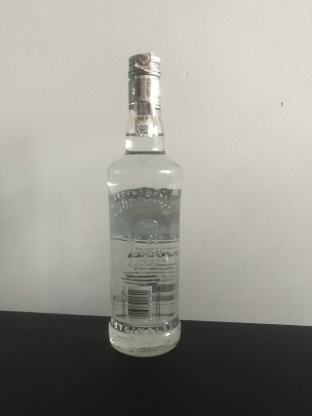nakretka: (126, 51, 163, 112)
